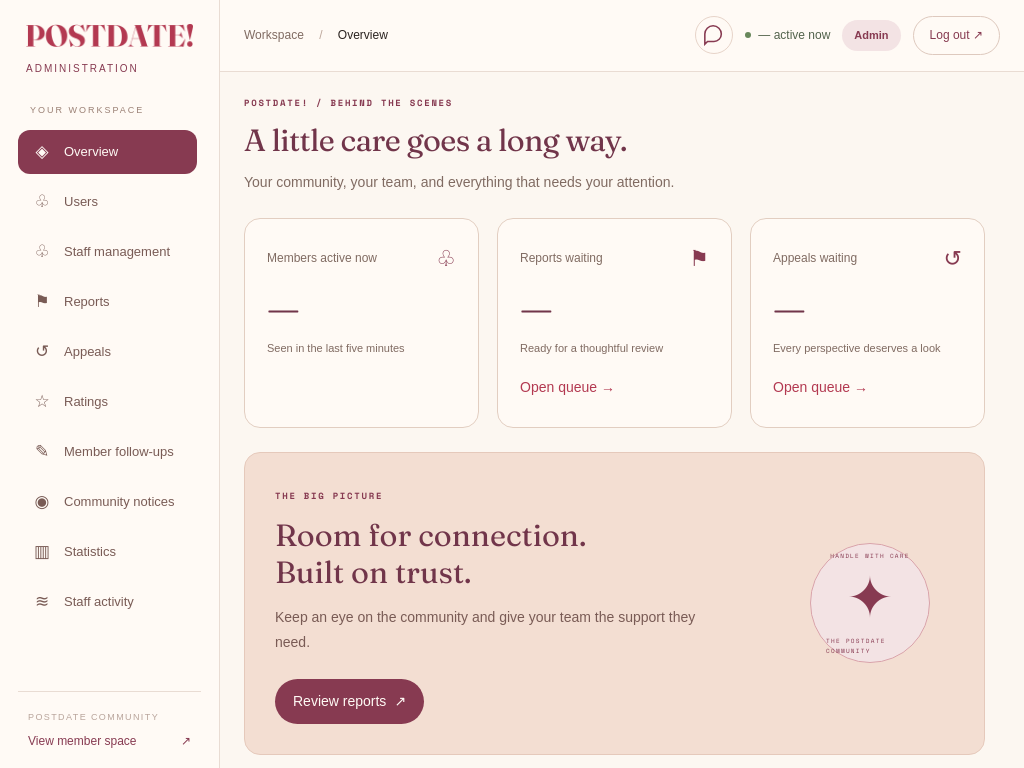
Test case: admin staff management loads only team accounts
The width and height of the screenshot is (1024, 768).
Click the button "♧ Staff management" at (108, 252), box [18,230,197,274]
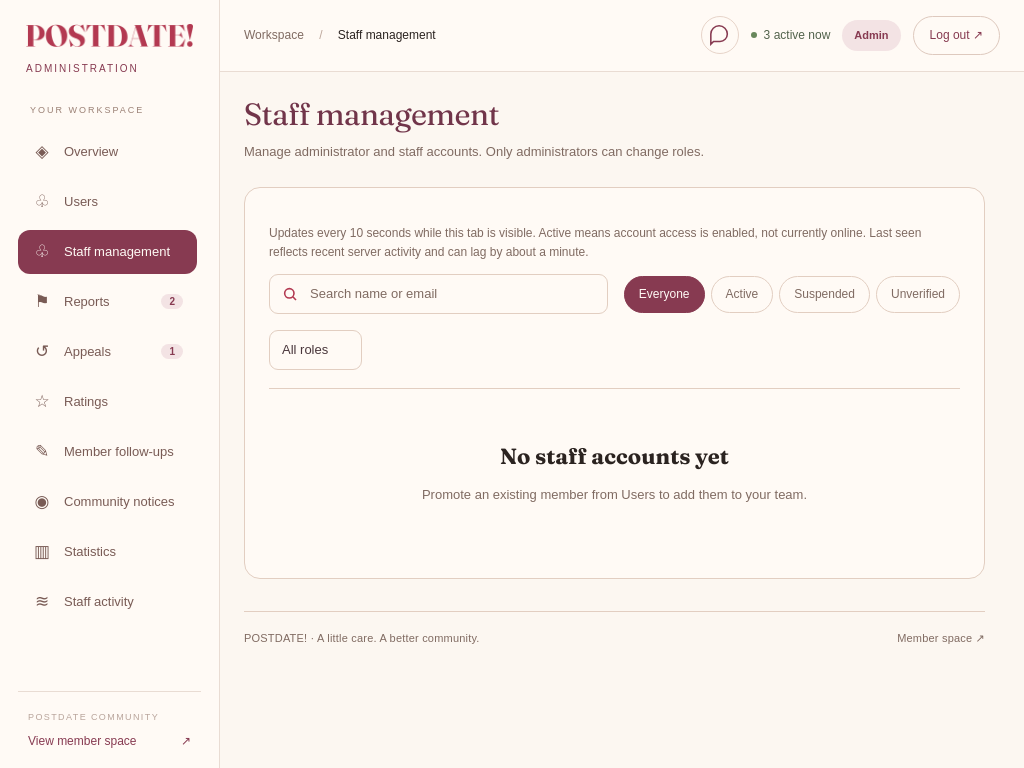
expect the heading "Staff management" is shown: met, box [244,95,499,133]
